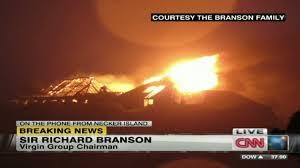fire: (144, 52, 223, 99)
